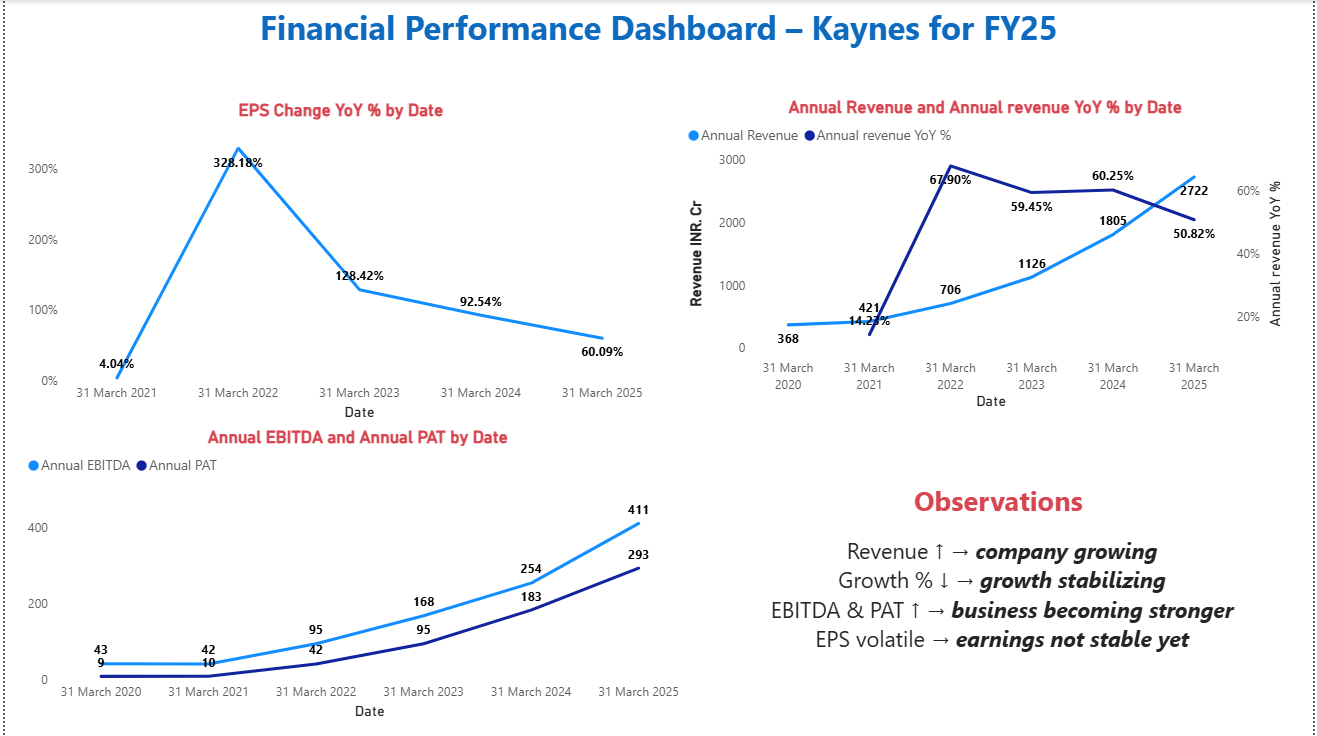

Layout of this report page (visuals, bound fields, positions):
{"tool":"powerbi","page":{"name":"Annual trends","canvas":[1280,720],"ordinal":1},"visuals":[{"type":"lineChart","fields":{"Category":["New APL.Date"],"Y":["New APL.EPS Change YoY %"]},"box":[16.6,98.1,622.9,318.5],"z":0},{"type":"textbox","box":[152.9,0,973.4,66],"z":1},{"type":"lineChart","fields":{"Y":["New APL.Annual Revenue"],"Category":["New APL.Date"],"Y2":["New APL.Annual revenue YoY %"]},"box":[662.4,94.3,592.4,310.8],"z":2},{"type":"lineChart","fields":{"Y":["New APL.Annual EBITDA","New APL.Annual PAT"],"Category":["New APL.Date"]},"box":[16.6,416.6,656.1,291.7],"z":3},{"type":"textbox","box":[742.7,466.2,466.2,193.6],"z":4}]}

Visuals, with their boxes in screenshot pixels (x1, y1, x2, y2), scaled from the page's 1280x720 canvas onto the 1317x736 screenshot:
lineChart - New APL.Date x New APL.EPS Change YoY %: <bbox>17, 100, 658, 426</bbox>
textbox: <bbox>157, 0, 1159, 67</bbox>
lineChart - New APL.Annual Revenue x New APL.Date: <bbox>682, 96, 1291, 414</bbox>
lineChart - New APL.Annual EBITDA x New APL.Annual PAT: <bbox>17, 426, 692, 724</bbox>
textbox: <bbox>764, 477, 1244, 674</bbox>
